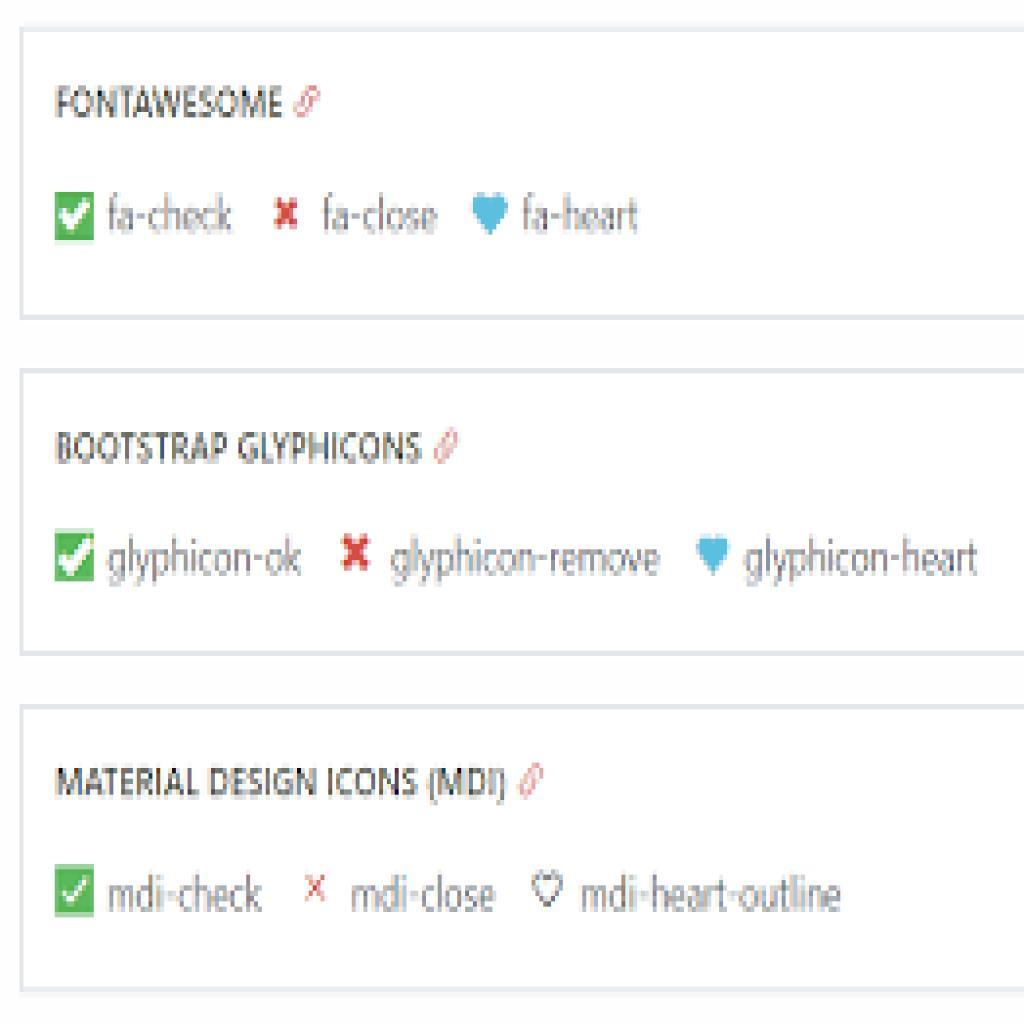checkbox: (54, 533, 96, 581), (56, 868, 97, 916), (54, 192, 93, 239)
icon: (470, 190, 513, 238), (264, 193, 306, 240), (525, 866, 568, 911), (290, 82, 329, 126), (340, 530, 373, 579), (697, 529, 729, 579), (425, 427, 463, 468), (514, 757, 552, 796), (299, 869, 330, 909)
